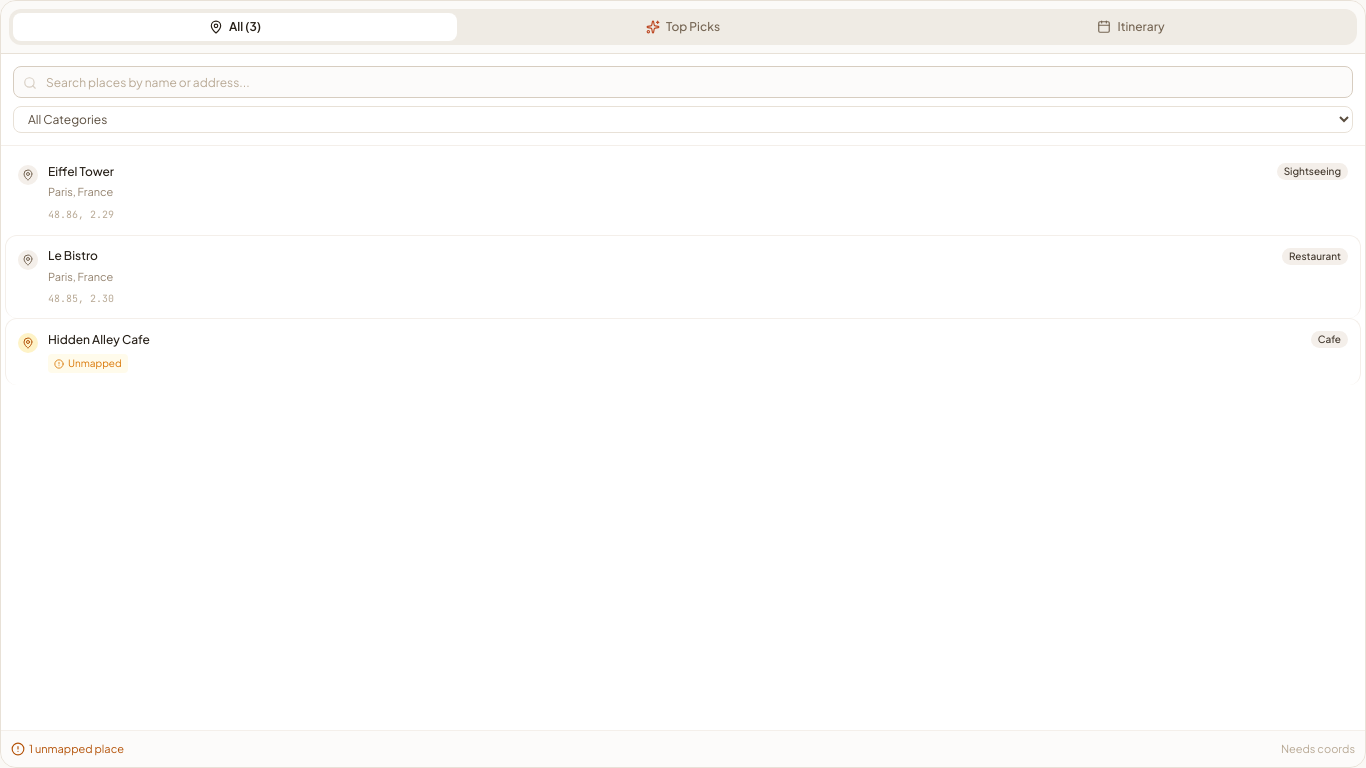
Test: MapPlaceList › filters places based on category dropdown
Select "Restaurant" in the dropdown named "filter by category" at (683, 120), box top-left (13, 106), bottom-right (1353, 133)
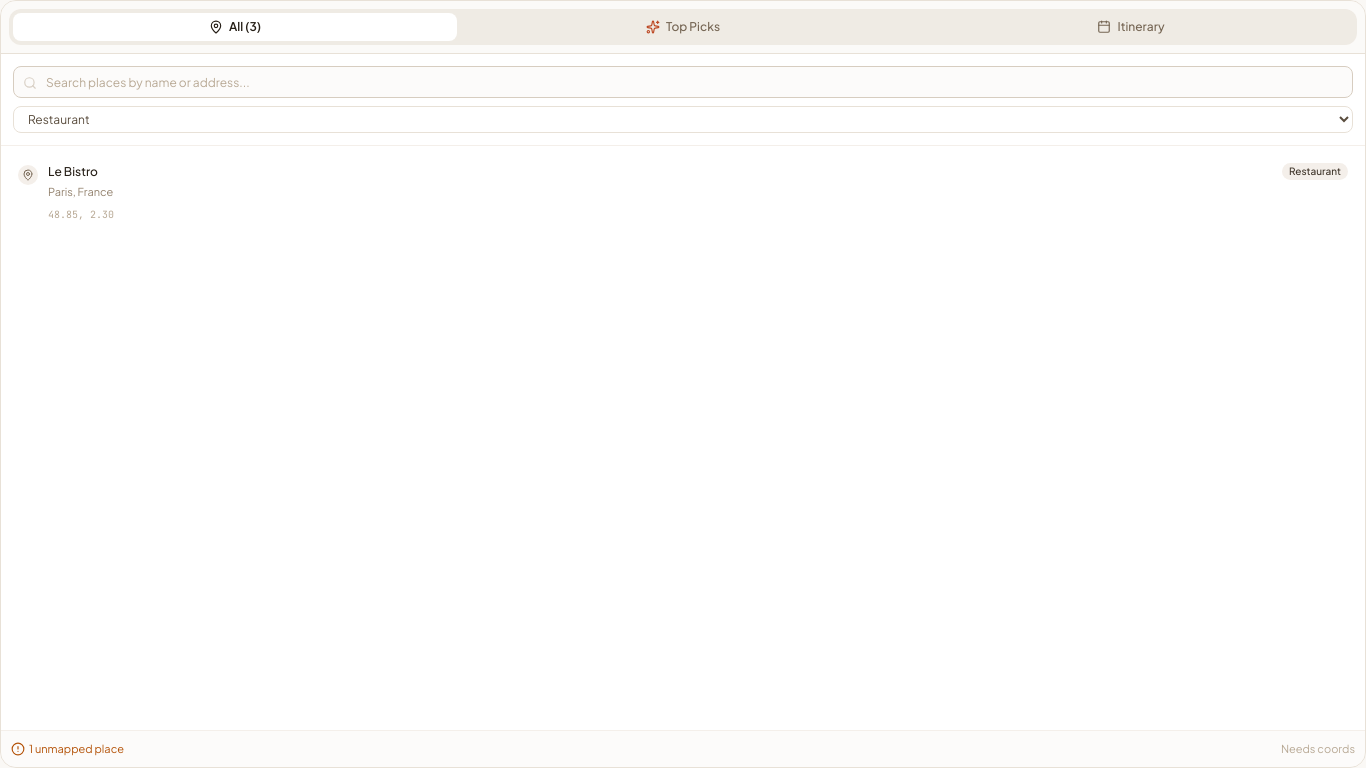
Expected: the heading "Le Bistro" is shown, top-left (48, 164), bottom-right (98, 180)
Result: the button "Eiffel Tower" is gone
